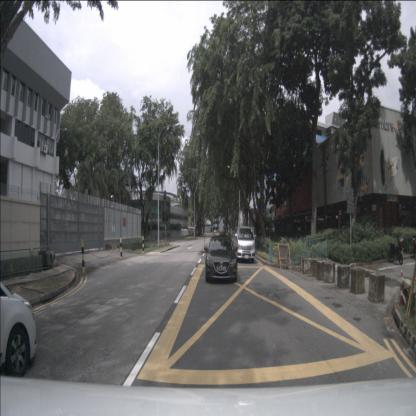cone: (398, 270, 407, 307)
